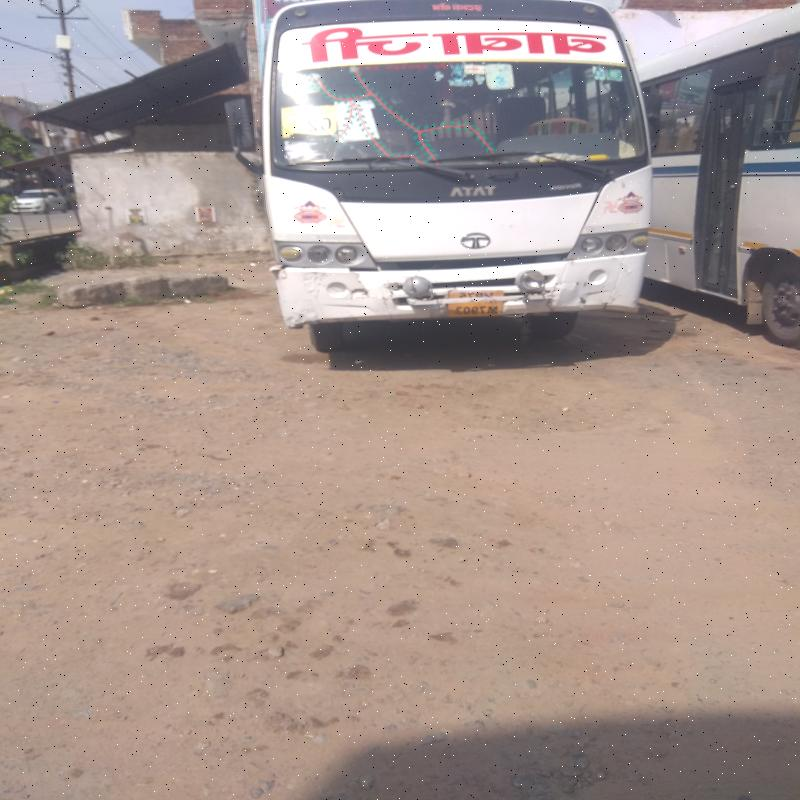bus: (268, 10, 644, 324)
